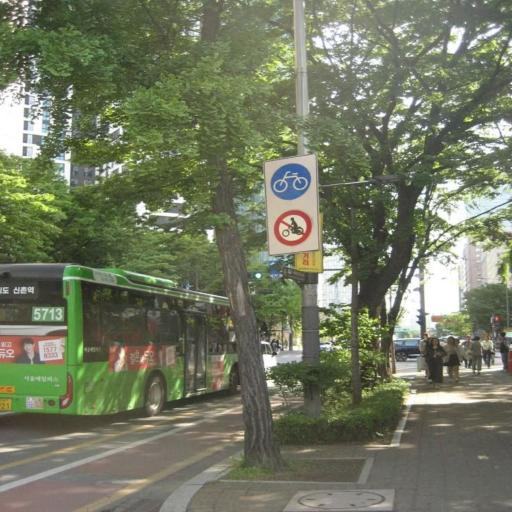bicycle: (0, 264, 241, 415)
hole: (417, 333, 509, 382)
phone: (294, 0, 309, 117)
shelf: (390, 371, 511, 511)
